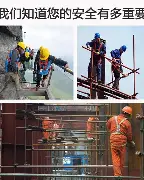safety belt: (110, 114, 129, 142), (36, 55, 52, 76), (91, 41, 103, 66), (111, 51, 123, 73), (8, 51, 20, 72)
